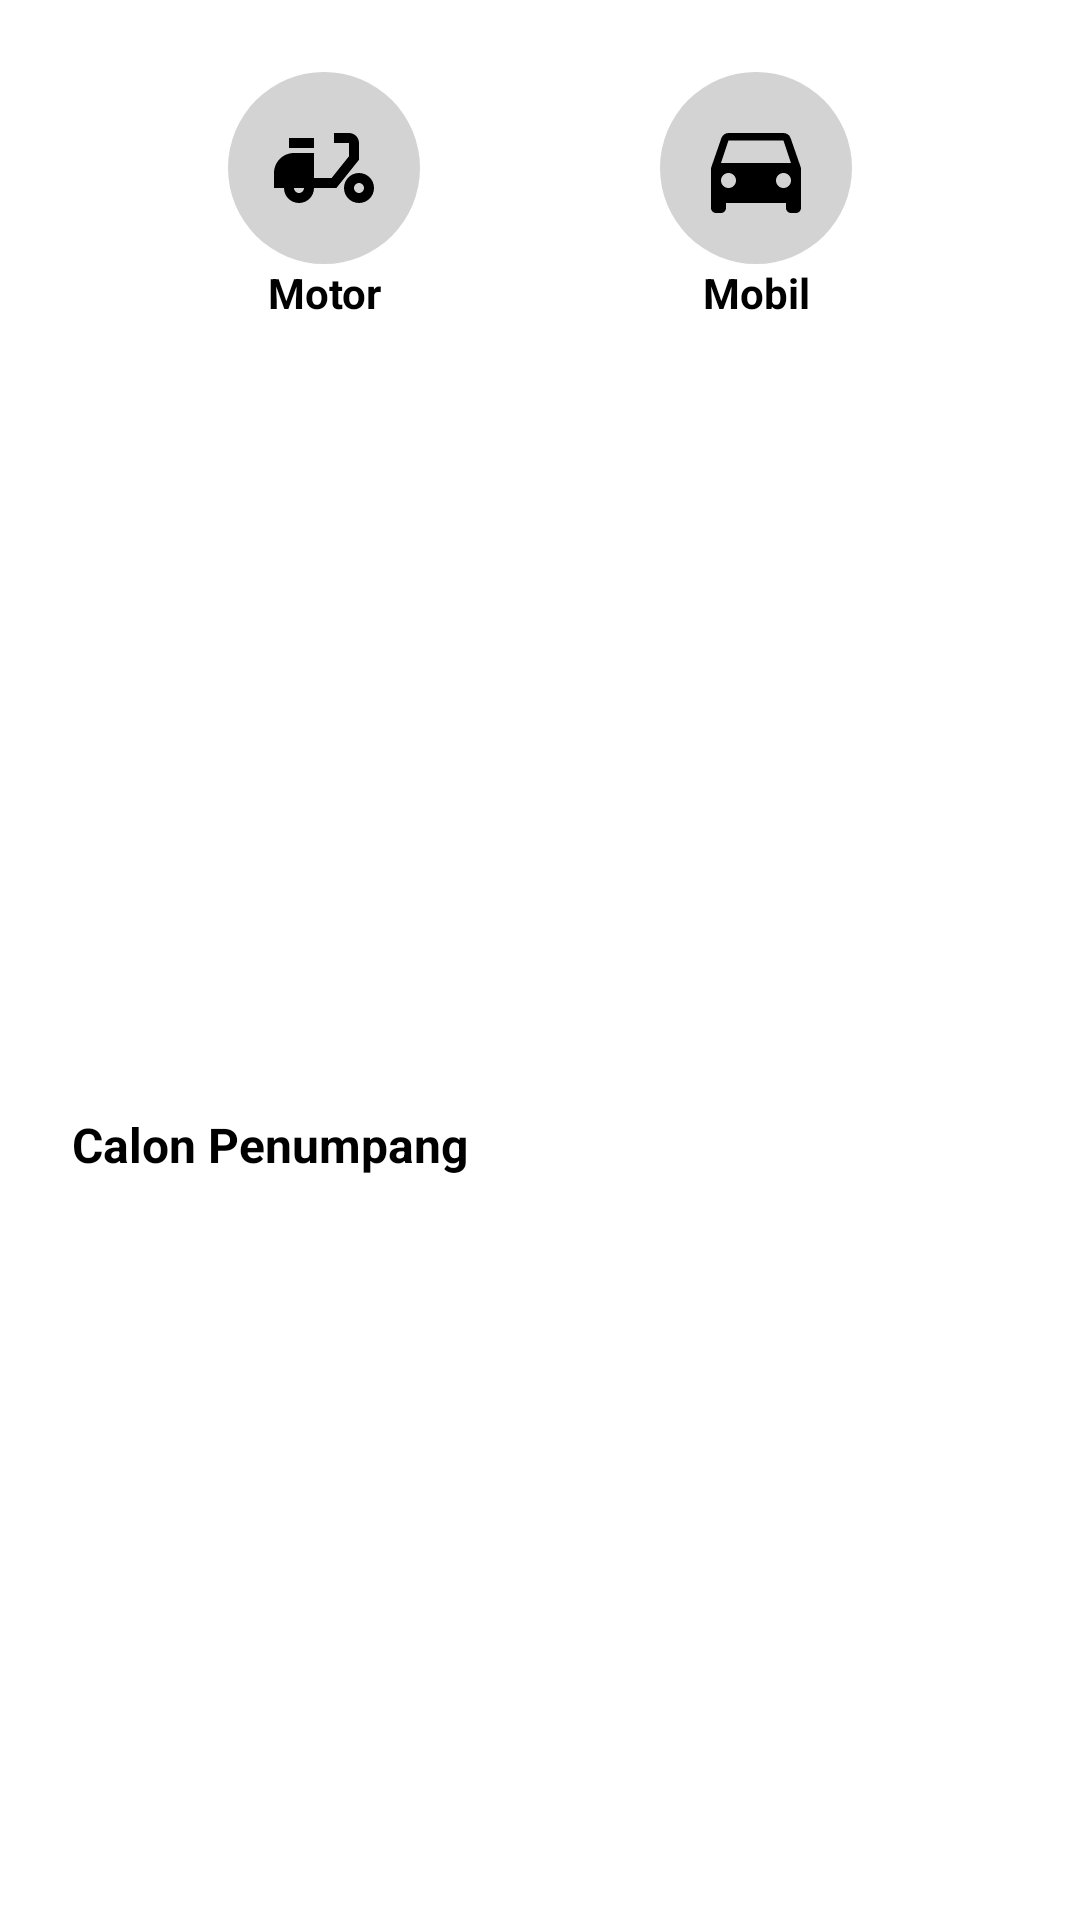

Named icons in this screenshot (1080*1920) and their centers, [x,y]:
delivery dining: [324,168]
